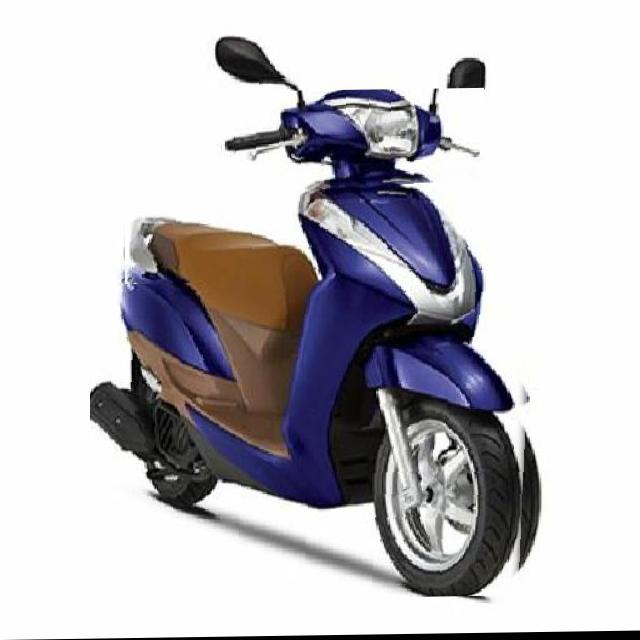All: (90, 73, 541, 602)
Head: (222, 89, 484, 196)
Tail: (125, 208, 193, 285)
